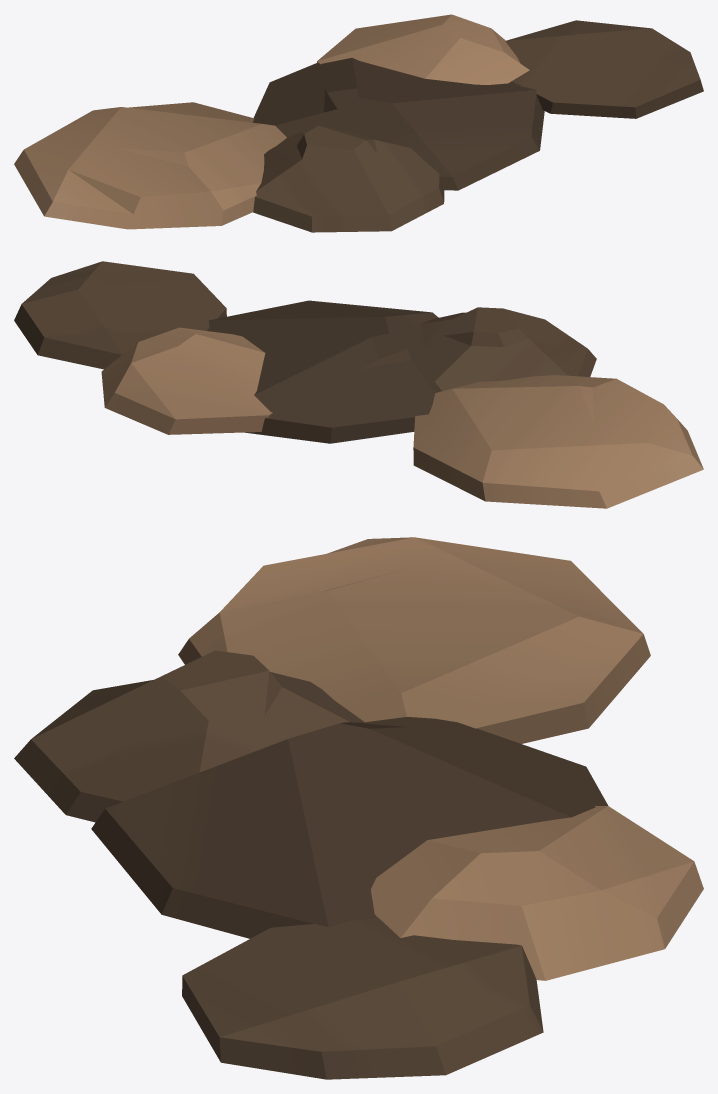
Rendered from ea_swamp_grass_hill_dead_01c_pre_2_lev1.glb.
The picture shows the model from 3 angles, top to bottom: view 1: azimuth 30°, elevation 25°; view 2: azimuth 150°, elevation 25°; view 3: azimuth 270°, elevation 25°; orthographic projection. The views are drawn at different scales.
Parts seen in each view (by area): view 1: ea_swamp_grass_hill_dead_01c_pre_2_lev1; view 2: ea_swamp_grass_hill_dead_01c_pre_2_lev1; view 3: ea_swamp_grass_hill_dead_01c_pre_2_lev1.
Part boxes in pixels (<box>): ea_swamp_grass_hill_dead_01c_pre_2_lev1: <box>14,14,703,232</box>; ea_swamp_grass_hill_dead_01c_pre_2_lev1: <box>14,261,703,508</box>; ea_swamp_grass_hill_dead_01c_pre_2_lev1: <box>14,537,703,1079</box>.
Size of the model in its own units: 2.9 by 0.2231 by 1.58.
1 material, 1 textured.
